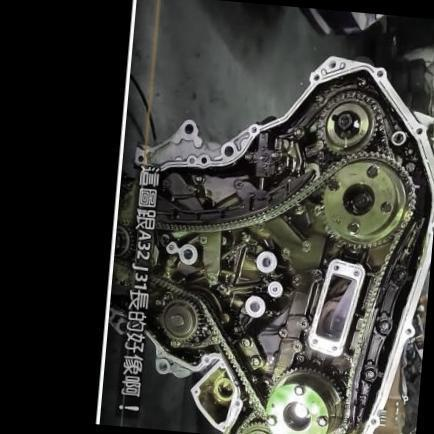hole: (258, 254, 271, 268), (246, 299, 259, 312), (178, 248, 191, 261), (366, 415, 377, 427), (184, 153, 194, 166), (374, 65, 384, 77), (326, 58, 336, 69), (309, 70, 318, 82), (268, 282, 278, 292), (413, 126, 422, 136), (230, 399, 240, 408), (166, 241, 175, 250), (402, 328, 411, 336), (200, 355, 209, 363), (190, 385, 198, 394), (218, 422, 226, 430), (248, 124, 255, 133)
